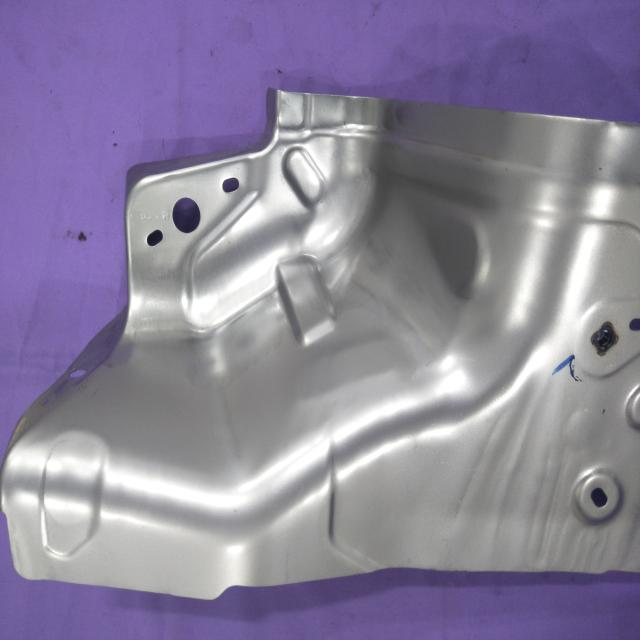Healthy: (2, 84, 638, 601)
